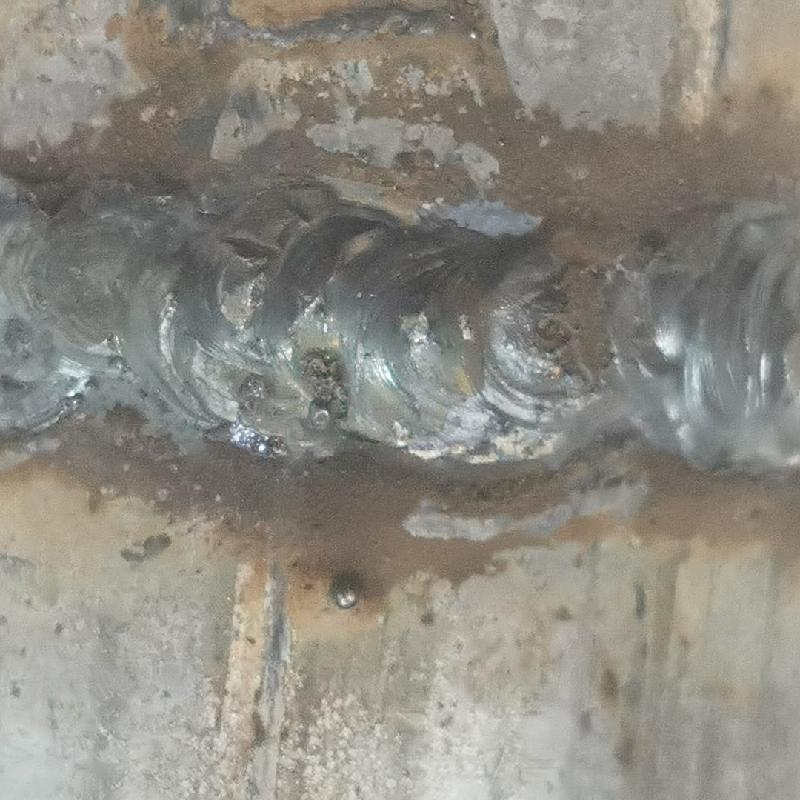good: (2, 160, 799, 484)
